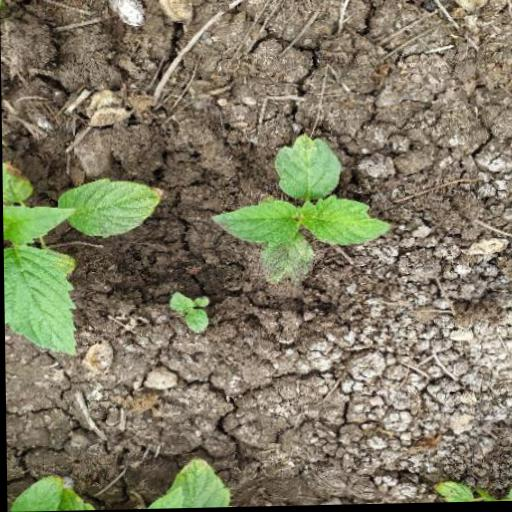crop: (2, 122, 166, 360), (213, 131, 393, 306)
